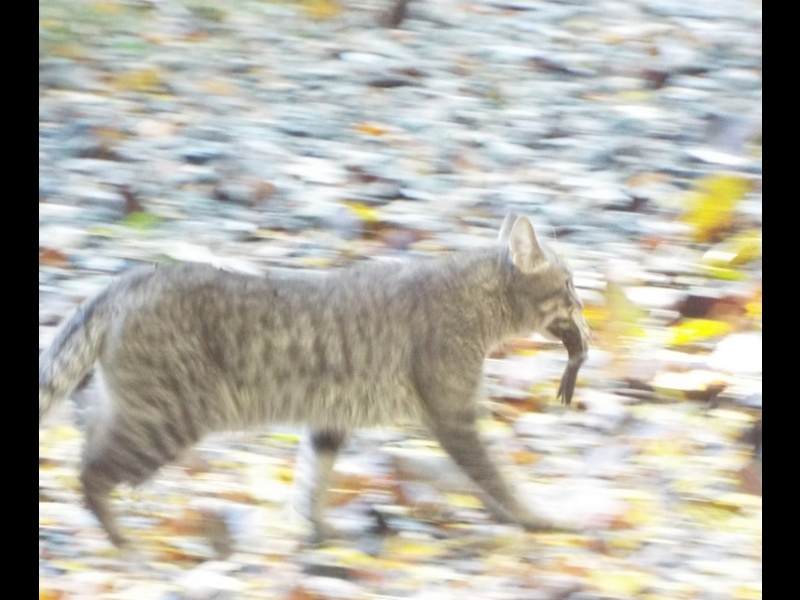cat: (49, 201, 587, 556)
